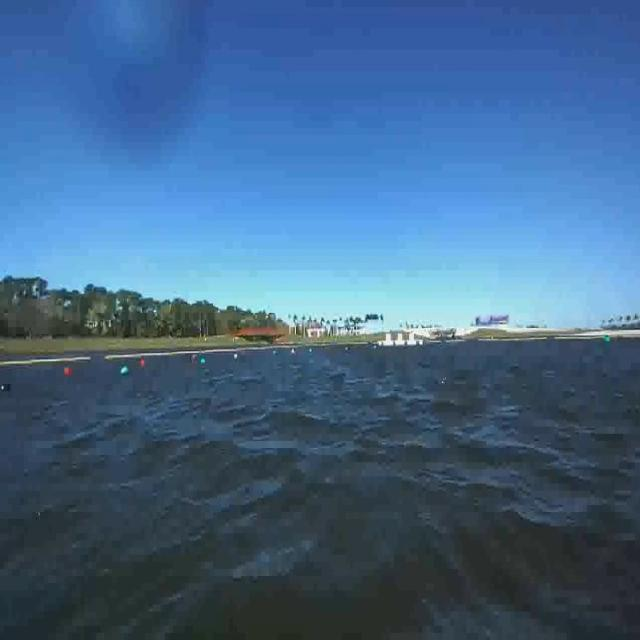green-buoy: (120, 364, 128, 376)
red-buoy: (64, 367, 72, 374)
